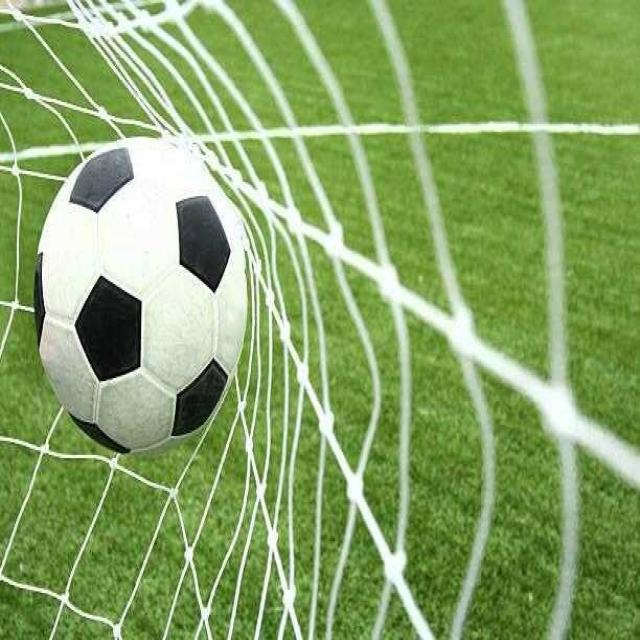ball: (34, 138, 248, 451)
